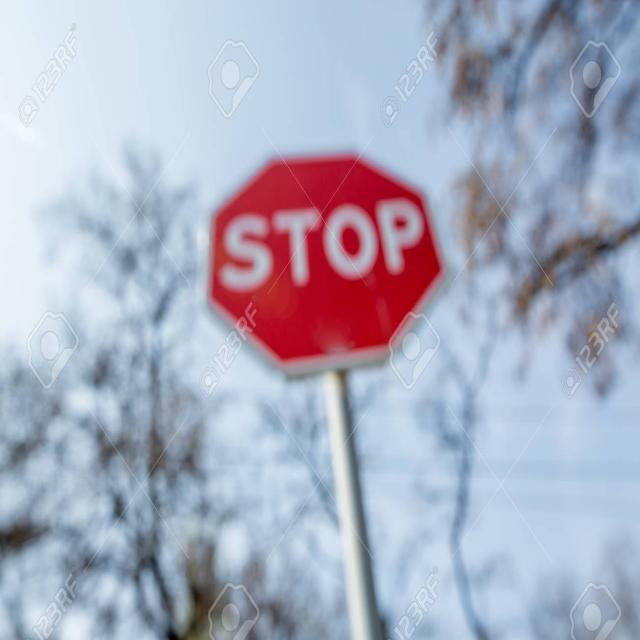STOP: (206, 154, 444, 373)
